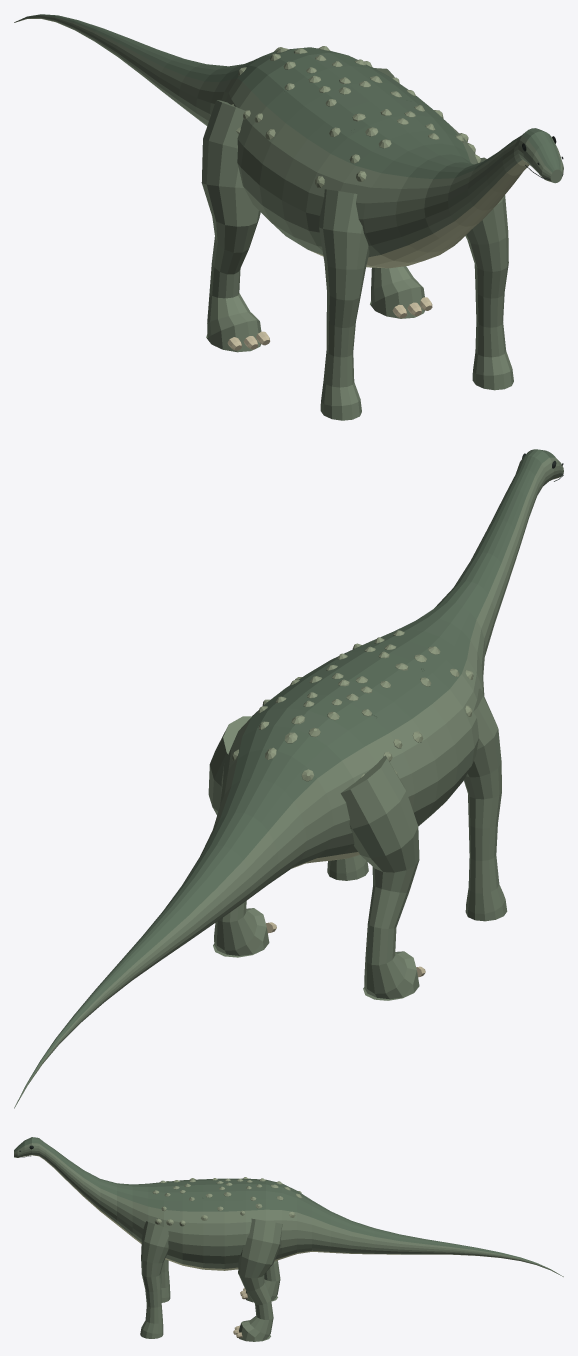
The picture shows the model from 3 angles, top to bottom: view 1: azimuth 30°, elevation 25°; view 2: azimuth 150°, elevation 25°; view 3: azimuth 270°, elevation 25°; orthographic projection. The views are drawn at different scales.
Visible parts, largest first — view 1: Continuous_SmallHead_Neck_BroadTrunk_TaperingTail, Four_Stout_Weightbearing_Limbs, Embedded_DermalPlates_InferredPlacement, Hindfoot_BluntUnguals; view 2: Continuous_SmallHead_Neck_BroadTrunk_TaperingTail, Four_Stout_Weightbearing_Limbs, Embedded_DermalPlates_InferredPlacement; view 3: Continuous_SmallHead_Neck_BroadTrunk_TaperingTail, Four_Stout_Weightbearing_Limbs, Embedded_DermalPlates_InferredPlacement.
Boxes of the visible parts, bbox=[...] form: Continuous_SmallHead_Neck_BroadTrunk_TaperingTail: bbox=[14, 14, 563, 268]; Four_Stout_Weightbearing_Limbs: bbox=[201, 68, 513, 420]; Embedded_DermalPlates_InferredPlacement: bbox=[231, 46, 481, 187]; Hindfoot_BluntUnguals: bbox=[227, 297, 432, 350]; Continuous_SmallHead_Neck_BroadTrunk_TaperingTail: bbox=[14, 449, 563, 1108]; Four_Stout_Weightbearing_Limbs: bbox=[208, 688, 507, 1000]; Embedded_DermalPlates_InferredPlacement: bbox=[232, 630, 473, 781]; Continuous_SmallHead_Neck_BroadTrunk_TaperingTail: bbox=[14, 1137, 563, 1276]; Four_Stout_Weightbearing_Limbs: bbox=[140, 1218, 282, 1341]; Embedded_DermalPlates_InferredPlacement: bbox=[152, 1177, 302, 1226].
Size of the model in its own units: 1.93 by 3.16 by 8.8.
